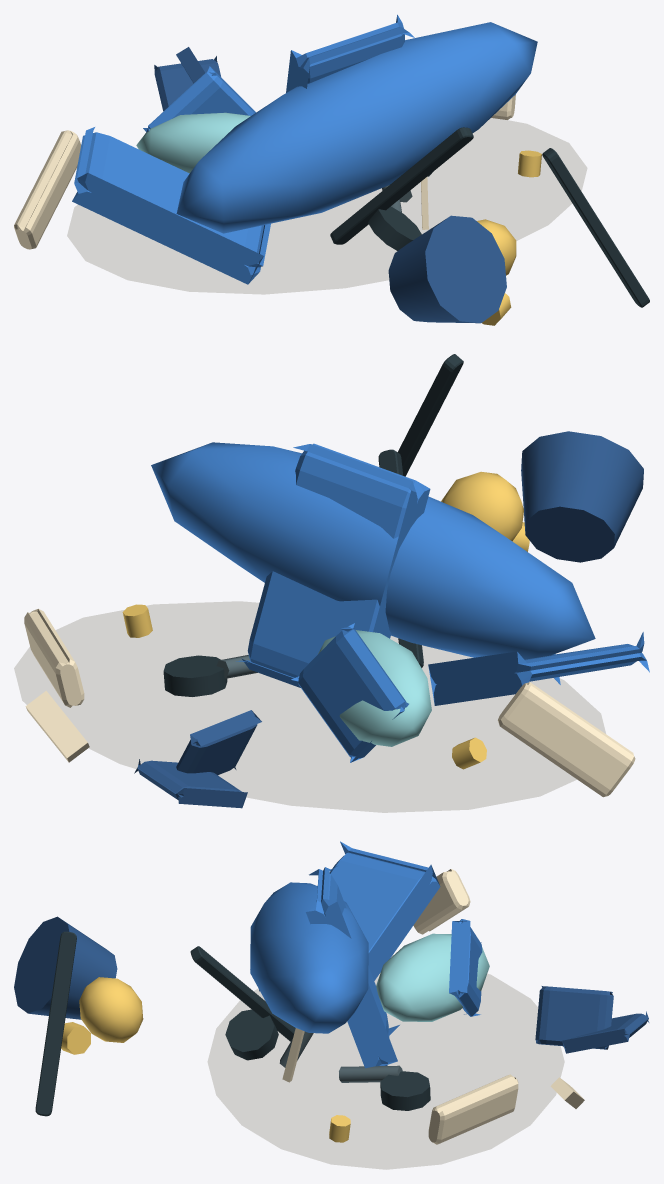
File: aircraft-blue-broken.glb
3 renders of one model, top to bottom at view 1: azimuth 30°, elevation 25°; view 2: azimuth 150°, elevation 25°; view 3: azimuth 270°, elevation 25°, orthographic. The views are drawn at different scales.
Visible parts, largest first — view 1: settled-toy-pieces (×6), impact-mark; view 2: settled-toy-pieces (×6), impact-mark; view 3: settled-toy-pieces (×7), impact-mark.
Part boxes in pixels (x1,y1,x2,y2): settled-toy-pieces (×6): (14,14,649,325); impact-mark: (67,118,586,294); settled-toy-pieces (×6): (24,354,649,808); impact-mark: (14,601,605,812); settled-toy-pieces (×7): (14,841,649,1144); impact-mark: (208,974,564,1169).
Size of the model in its own units: 2.45 by 0.8552 by 2.74.
